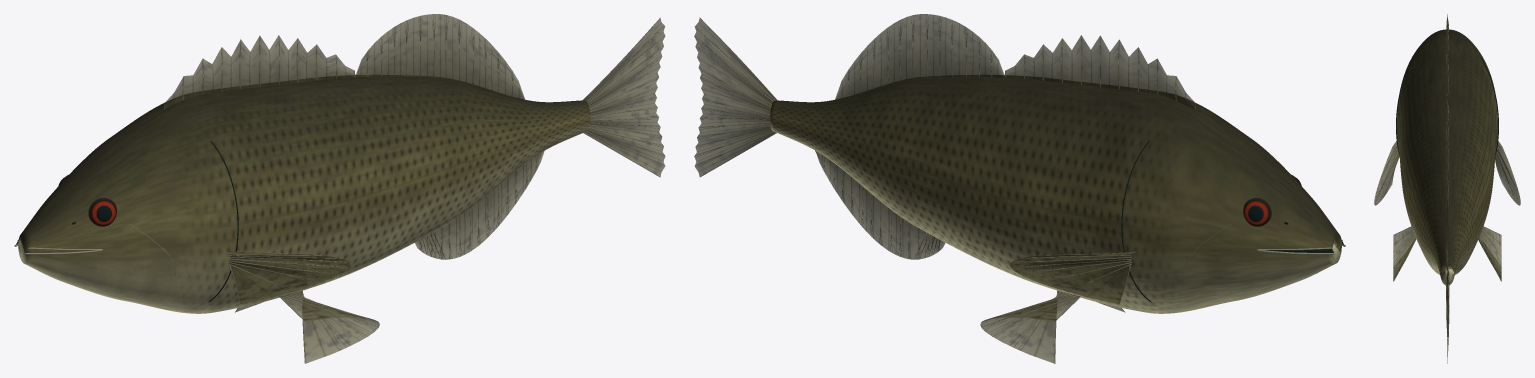
The model's file is rock-bass.glb.
3 views of the same model, side by side, from view 1: azimuth 30°, elevation 25°; view 2: azimuth 150°, elevation 25°; view 3: azimuth 270°, elevation 25° (orthographic). The views are drawn at different scales.
Visible parts, largest first — view 1: rock-bass specimen; view 2: rock-bass specimen; view 3: rock-bass specimen.
Boxes of the visible parts, x1=… form: rock-bass specimen: x1=14, y1=14, x2=665, y2=363; rock-bass specimen: x1=694, y1=14, x2=1345, y2=363; rock-bass specimen: x1=1374, y1=14, x2=1520, y2=363.
Bounding box in the file's own units: 2.24 × 1.01 × 0.5718.
Materials: 10 (6 with a texture image).
